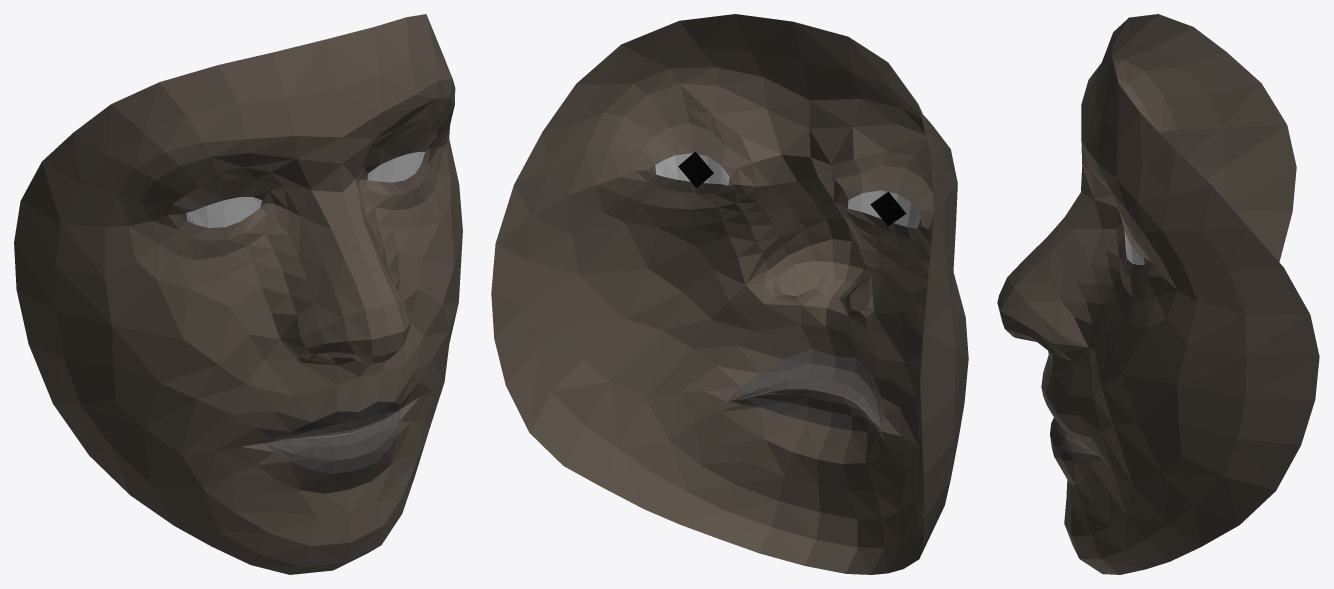
The model's file is nervous.obj.
3 renders of one model, left to right at view 1: azimuth 30°, elevation 25°; view 2: azimuth 150°, elevation 25°; view 3: azimuth 270°, elevation 25°, orthographic. The views are drawn at different scales.
Visible parts, largest first — view 1: face_model_with_iris; view 2: face_model_with_iris; view 3: face_model_with_iris.
Boxes of the visible parts, x1,y1,x2,y2 form: face_model_with_iris: (14, 14, 462, 574); face_model_with_iris: (491, 14, 968, 574); face_model_with_iris: (997, 14, 1319, 574).
Bounding box in the file's own units: 0.8005 × 1 × 0.5785.
